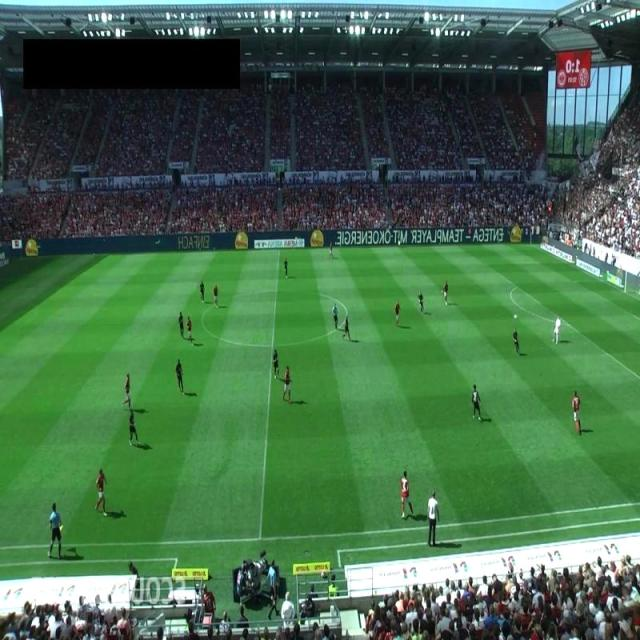bigarea_top_inner: (480, 260, 490, 270)
bigarea_top_outter: (561, 258, 572, 268)
bottom_arc_area_intersection: (562, 320, 574, 330)
corner: (525, 240, 536, 251)
halfcircle_bottom: (268, 341, 278, 352)
halfcircle_top: (272, 284, 282, 295)
midline_bottom_intersection: (253, 530, 267, 546)
midline_top_intersection: (274, 244, 284, 256)
smallarea_top_inner: (570, 278, 580, 288)
smallarea_top_outter: (598, 276, 609, 286)
top_arc_area_intersection: (512, 282, 522, 293)
